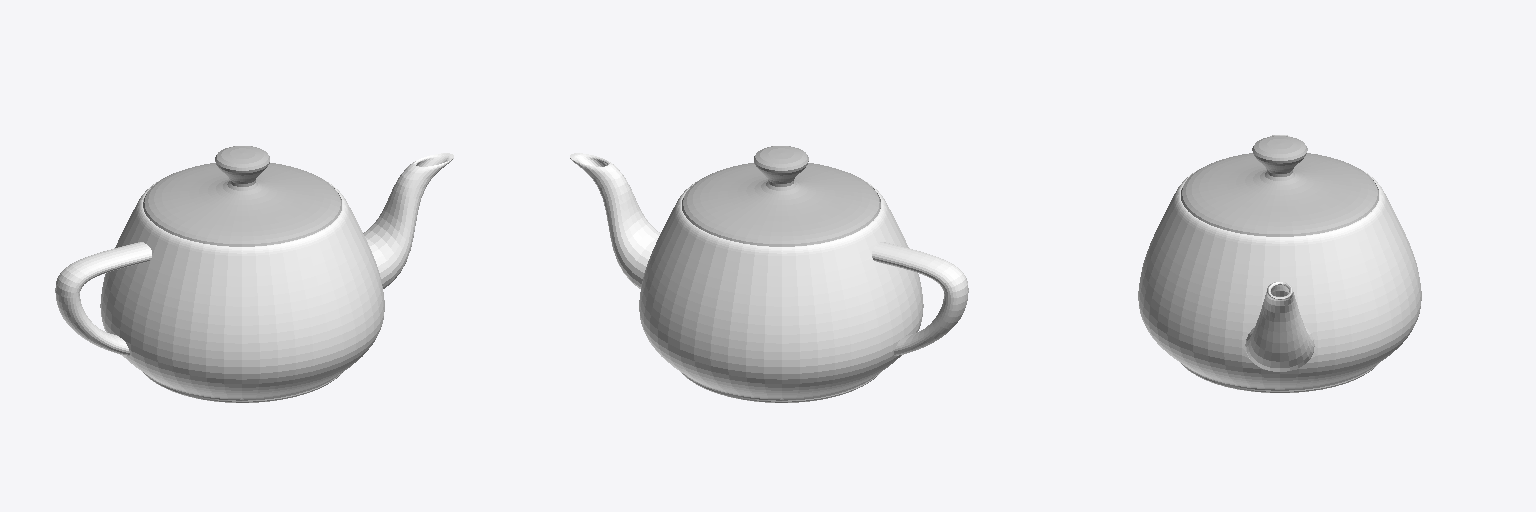
File: teapot.obj
3 renders of one model, left to right at view 1: azimuth 30°, elevation 25°; view 2: azimuth 150°, elevation 25°; view 3: azimuth 270°, elevation 25°, orthographic.
Parts seen in each view (by area): view 1: teapot; view 2: teapot; view 3: teapot.
Part boxes in pixels (bbox=[...]): teapot: bbox=[55, 146, 453, 402]; teapot: bbox=[570, 146, 968, 402]; teapot: bbox=[1138, 135, 1421, 392].
Bounding box in the file's own units: 154 × 79.01 × 95.86.